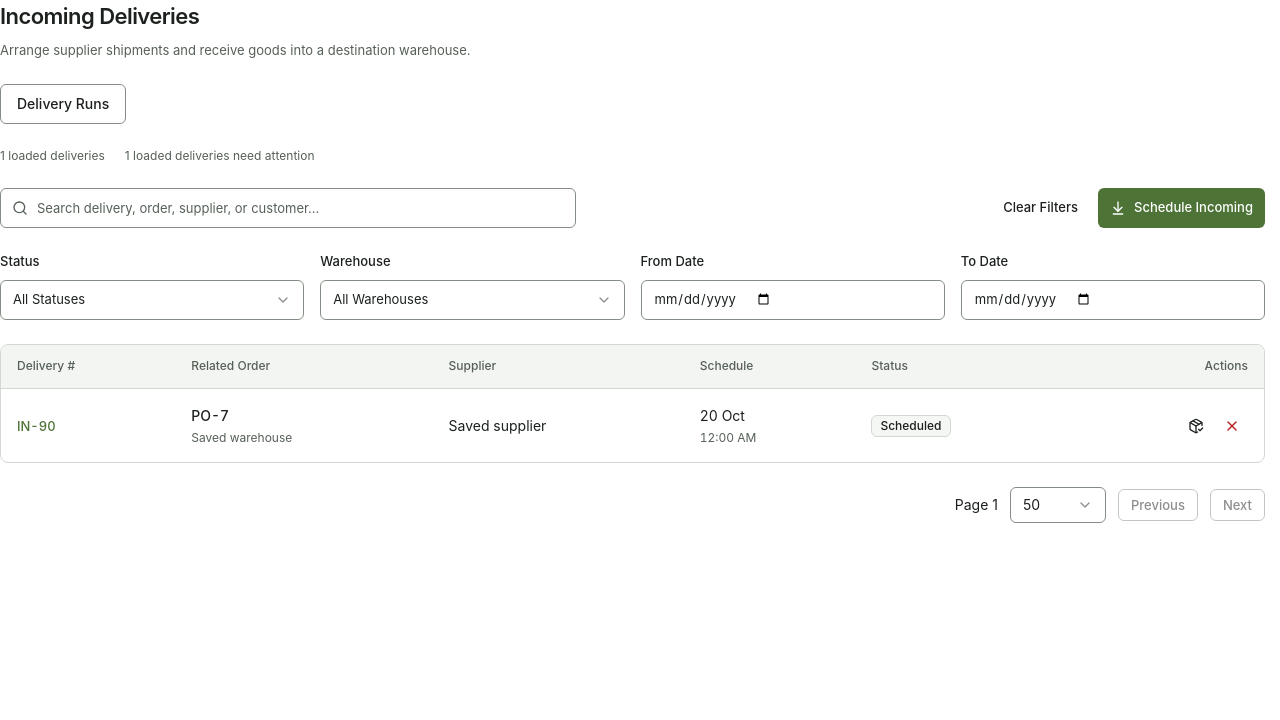
Test case: opens the actual receiving form from Incoming Deliveries and moves the confirmed delivery into history
The image size is (1280, 720).
Click the button named "Receive Goods IN-90" at (1196, 426), box top-left (1180, 410), bottom-right (1212, 442)
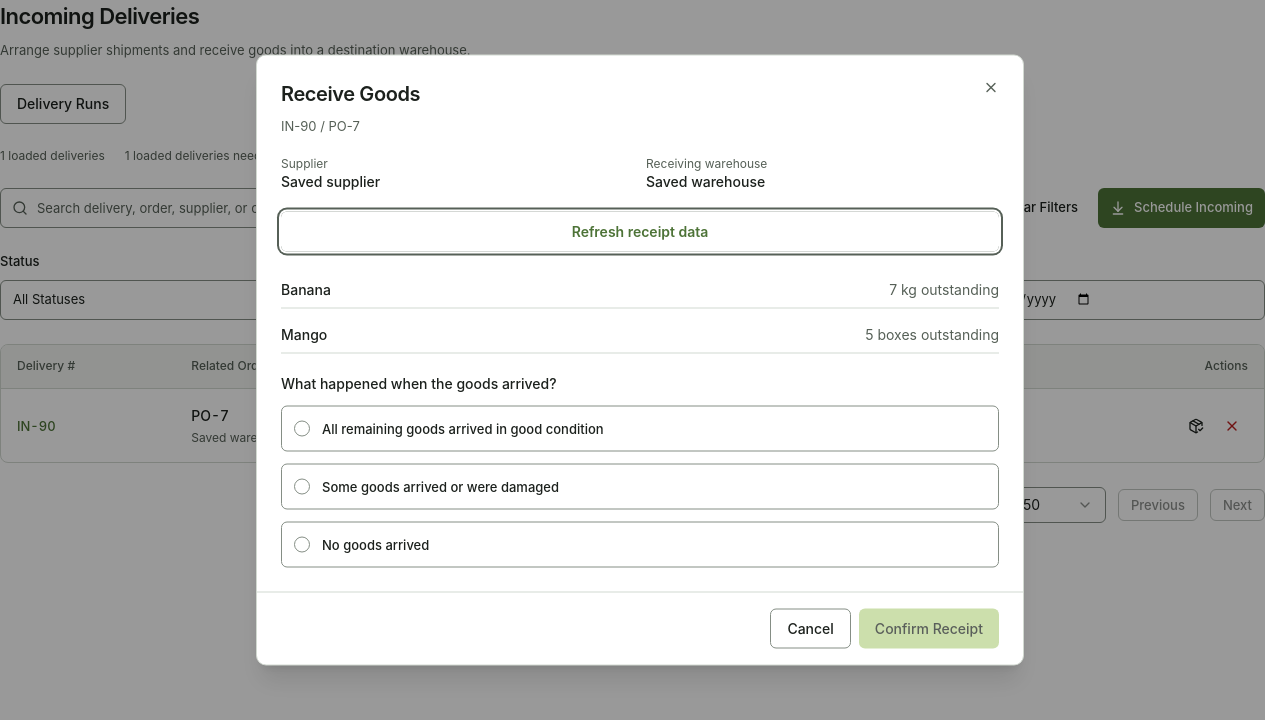
Result: the text "Banana" is shown at top-left (281, 280), bottom-right (331, 300)
Click the radio button labelled "Some goods arrived or were damaged" at (302, 486), box top-left (294, 478), bottom-right (310, 494)
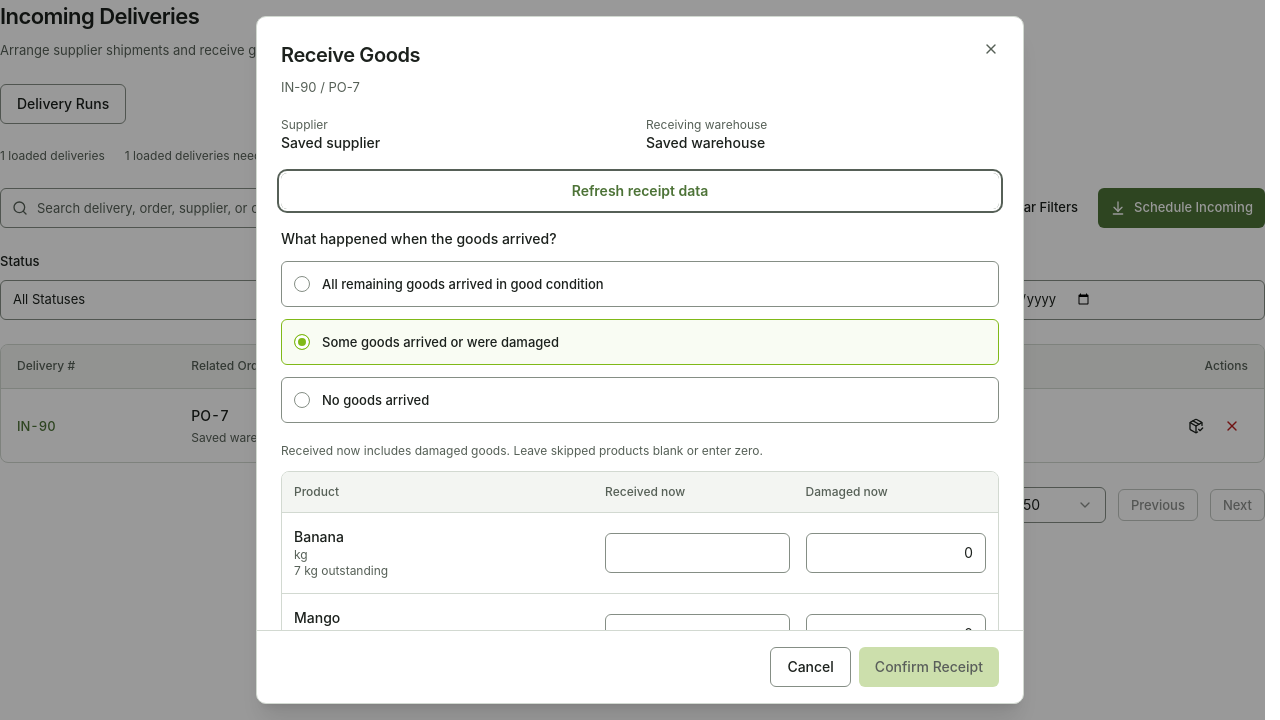
Type "1.25" into the field named "Received now for Banana (1)" at (697, 552), box top-left (605, 532), bottom-right (790, 572)
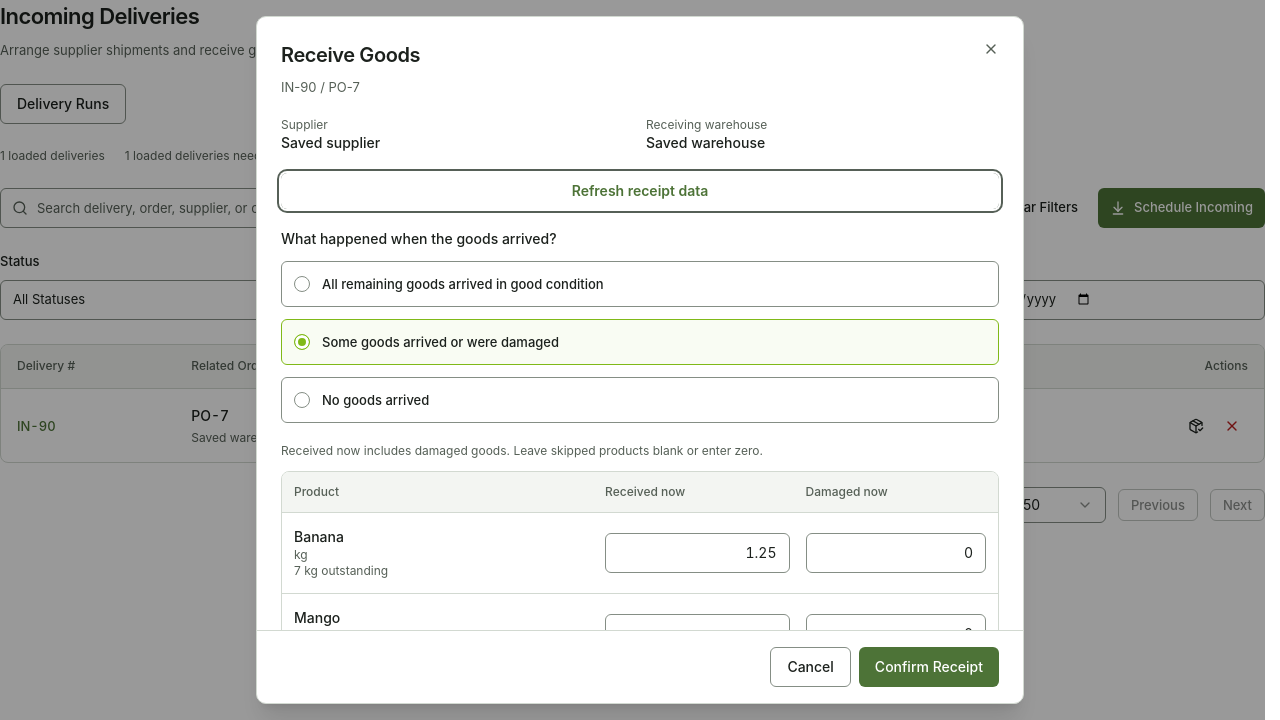
Click the button "Confirm Receipt" at (929, 667), box top-left (859, 647), bottom-right (999, 687)
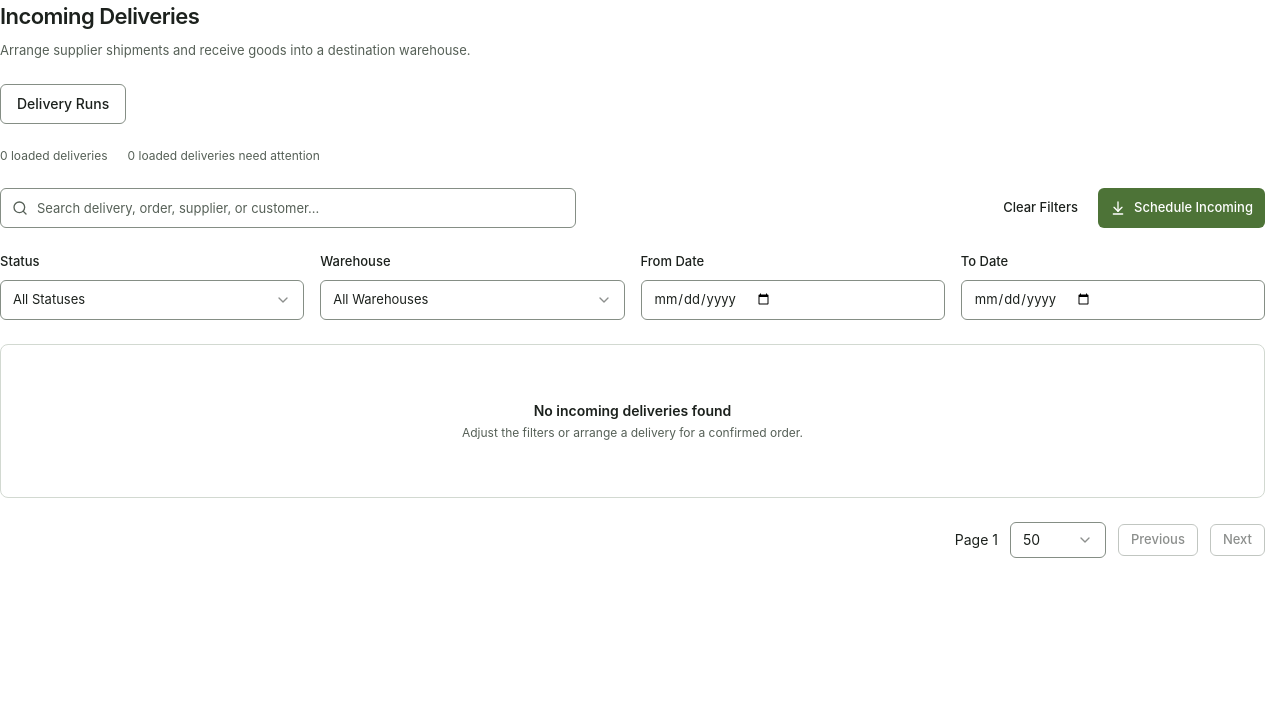
Result: the button "Receive Goods IN-90" is gone
